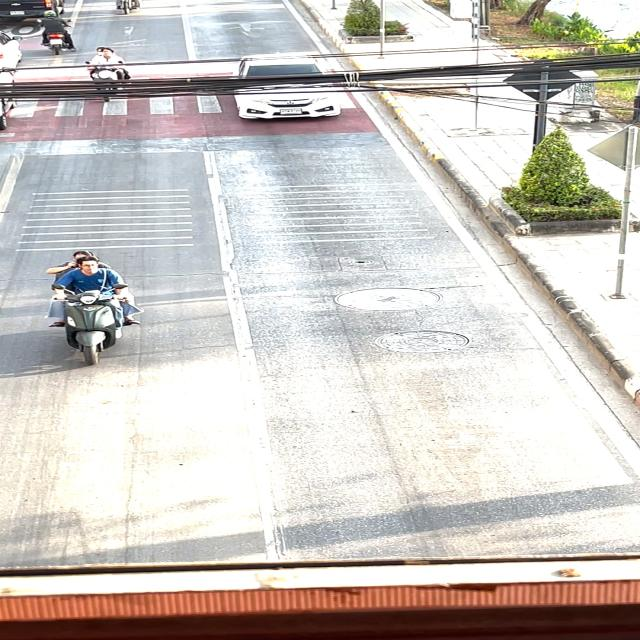car: (214, 49, 355, 138)
